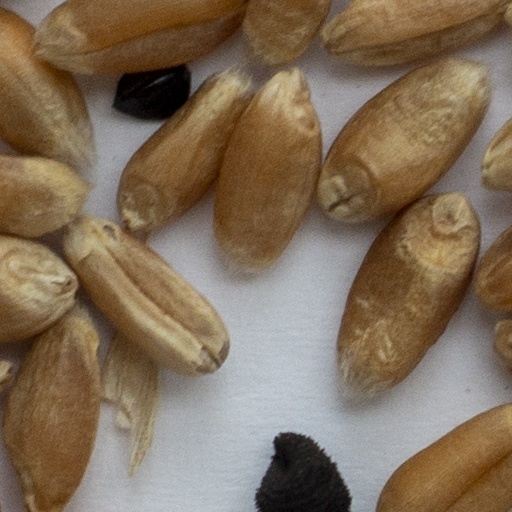Agrostemma-poly: (256, 432, 351, 511)
Fallopia-Convolvulus-poly: (115, 66, 189, 117)
